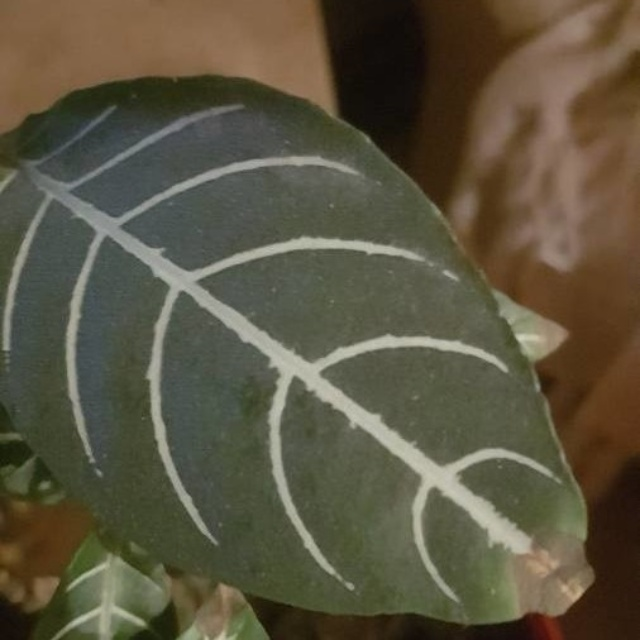obstacle: (25, 58, 621, 618)
